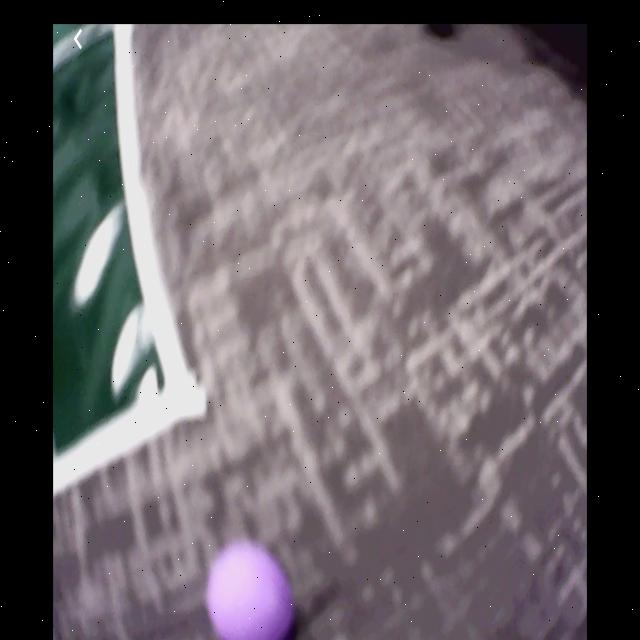ball: (204, 543, 294, 640)
